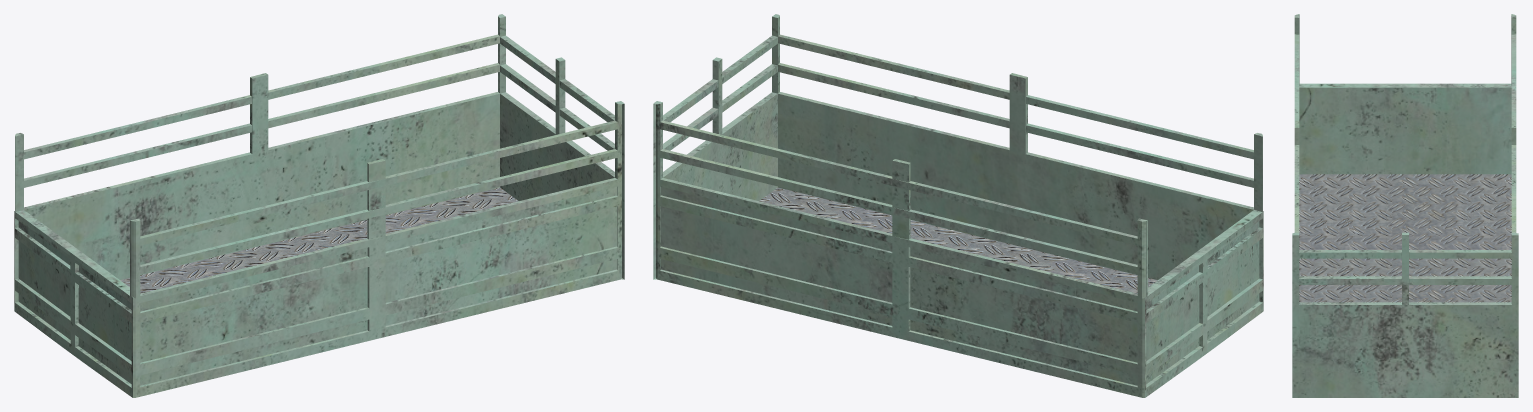
Rendered from Back_Truck.fbx.
3 views of the same model, side by side, from view 1: azimuth 30°, elevation 25°; view 2: azimuth 150°, elevation 25°; view 3: azimuth 270°, elevation 25° (orthographic). The views are drawn at different scales.
Parts seen in each view (by area): view 1: polySurface604; view 2: polySurface604; view 3: polySurface604.
Boxes of the visible parts, x1=… form: polySurface604: x1=14, y1=14, x2=624, y2=397; polySurface604: x1=653, y1=14, x2=1263, y2=397; polySurface604: x1=1292, y1=14, x2=1518, y2=397.
Size of the model in its own units: 55.29 by 19.35 by 23.93.
